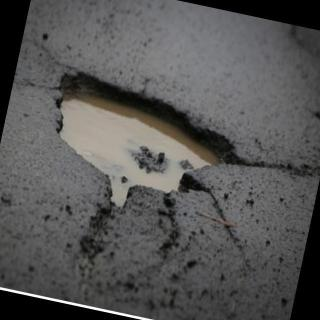pothole: (60, 72, 249, 207)
